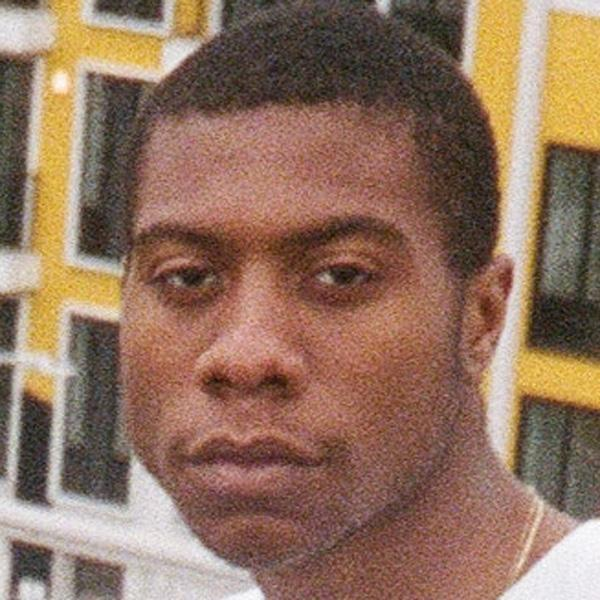Eyes: (142, 247, 233, 308), (294, 247, 388, 302)
